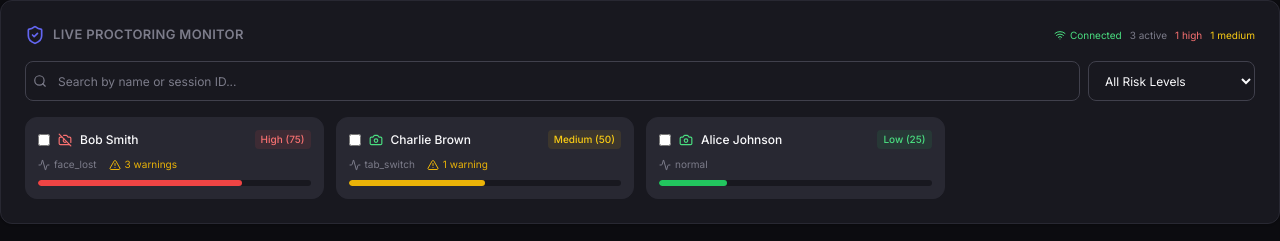
MonitoringGrid › filters by search term on candidate name
In the field with placeholder "Search by name or session ID...": point(552, 81) [25,61,1080,101], type "Alice"
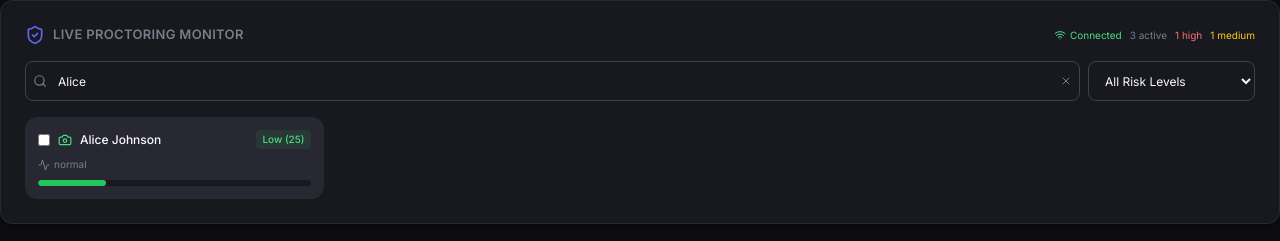
Expected: the text "Alice Johnson" is shown, [80,130,161,148]
Result: the text "Bob Smith" is gone
Result: the text "Charlie Brown" is gone
